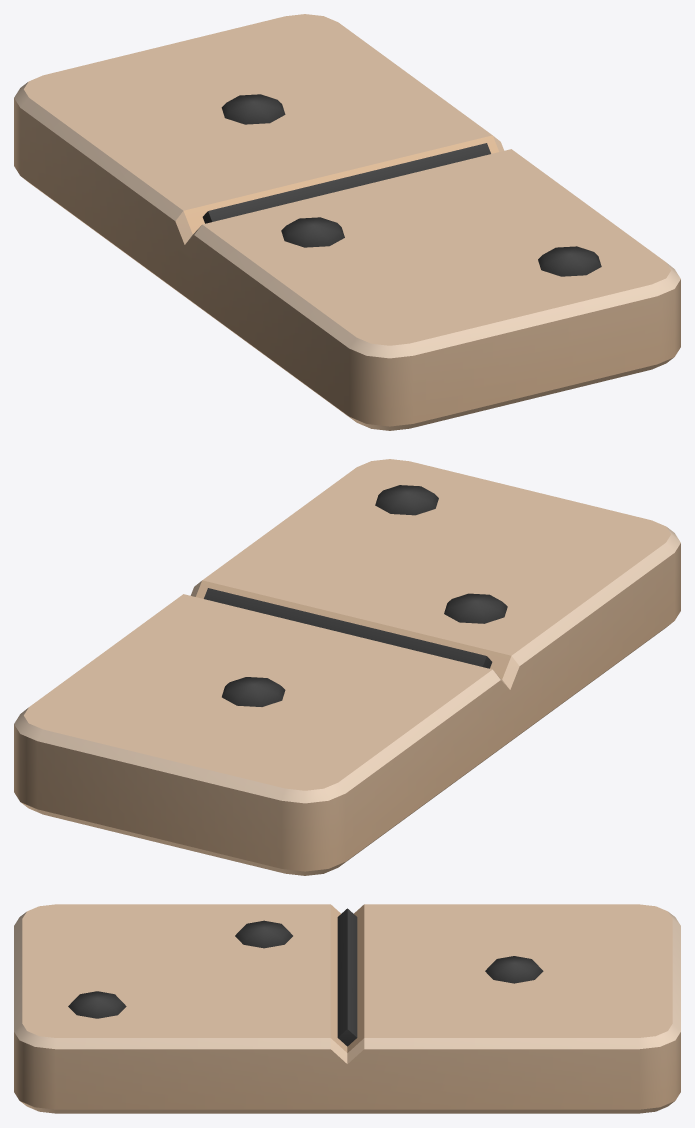
The model's file is k_Domino.glb.
3 views of the same model, one above another, from view 1: azimuth 30°, elevation 25°; view 2: azimuth 150°, elevation 25°; view 3: azimuth 270°, elevation 25° (orthographic). The views are drawn at different scales.
Parts seen in each view (by area): view 1: domino_tile_1-2; view 2: domino_tile_1-2; view 3: domino_tile_1-2.
Part boxes in pixels (x1,y1,x2,y2): domino_tile_1-2: (14,14,680,430); domino_tile_1-2: (14,459,680,875); domino_tile_1-2: (14,904,680,1113).
Size of the model in its own units: 1 by 0.2767 by 2.
Materials: 1 (1 with a texture image).
